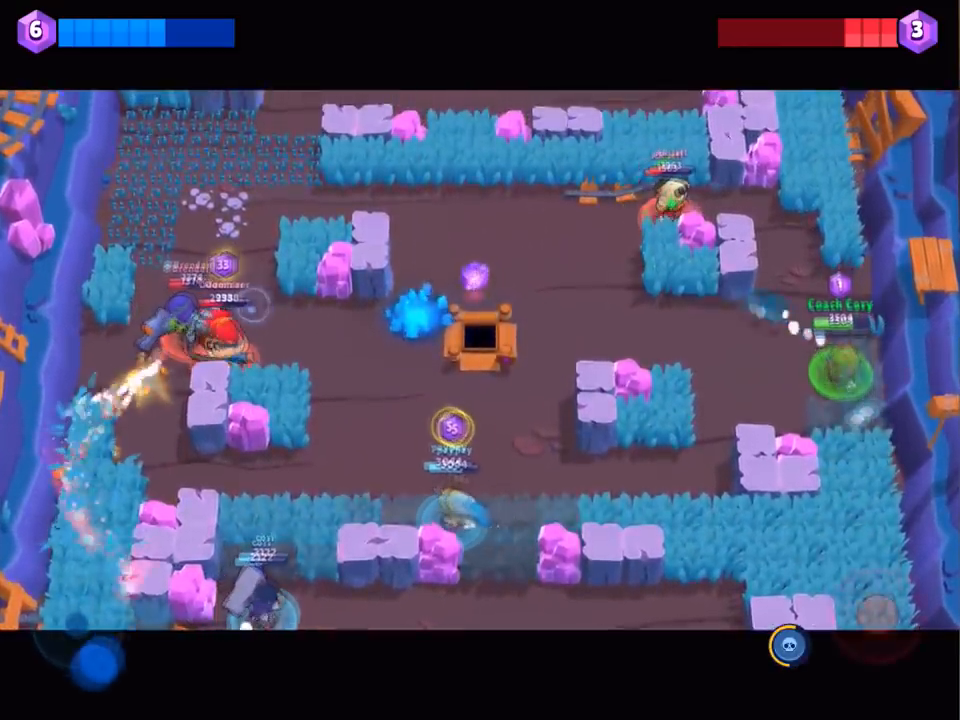move_stick: (61, 629, 133, 686)
red: (135, 268, 269, 372), (644, 160, 707, 227)
